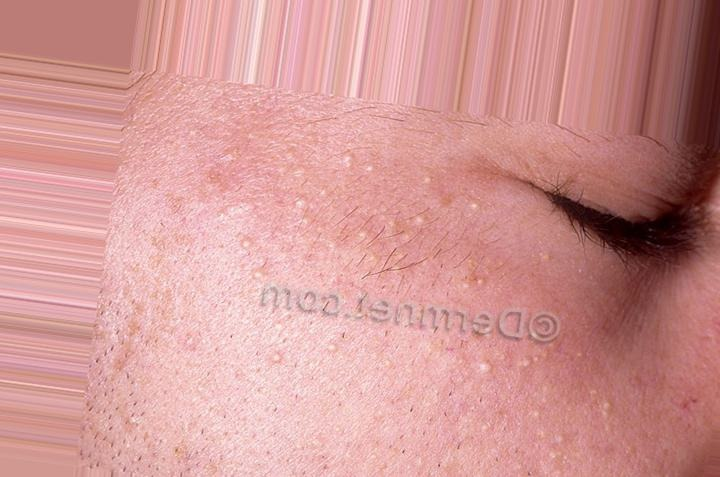Acne: (164, 141, 480, 333)
